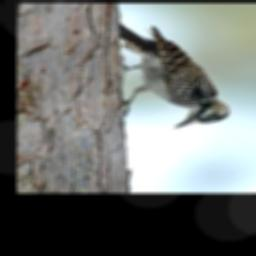Woodpecker: (106, 20, 233, 128)
